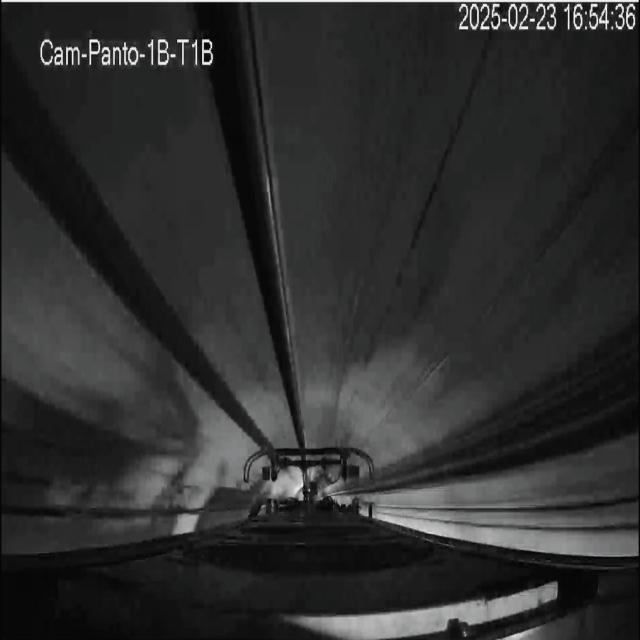Camera Stamp: (38, 33, 220, 69)
Date Stamp: (459, 3, 637, 33)
No - Spark: (245, 445, 375, 519)
